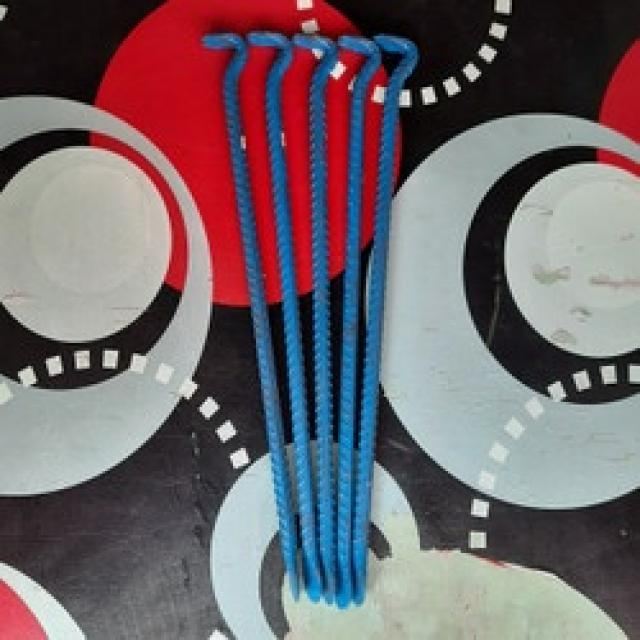Linggis: (199, 30, 307, 599)
